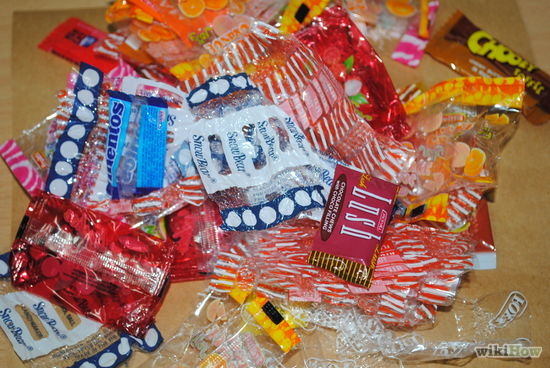Nonrec_Plastic: (12, 5, 541, 363), (223, 12, 444, 169), (187, 65, 334, 235), (20, 196, 179, 349), (60, 68, 204, 223), (435, 20, 546, 137)
